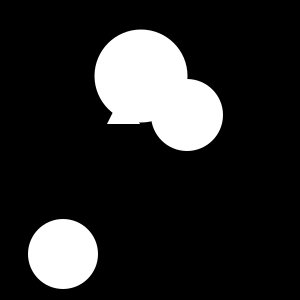rectangle: (94, 30, 188, 122), (151, 79, 223, 151), (28, 219, 98, 289)
triangle: (107, 91, 140, 124)
